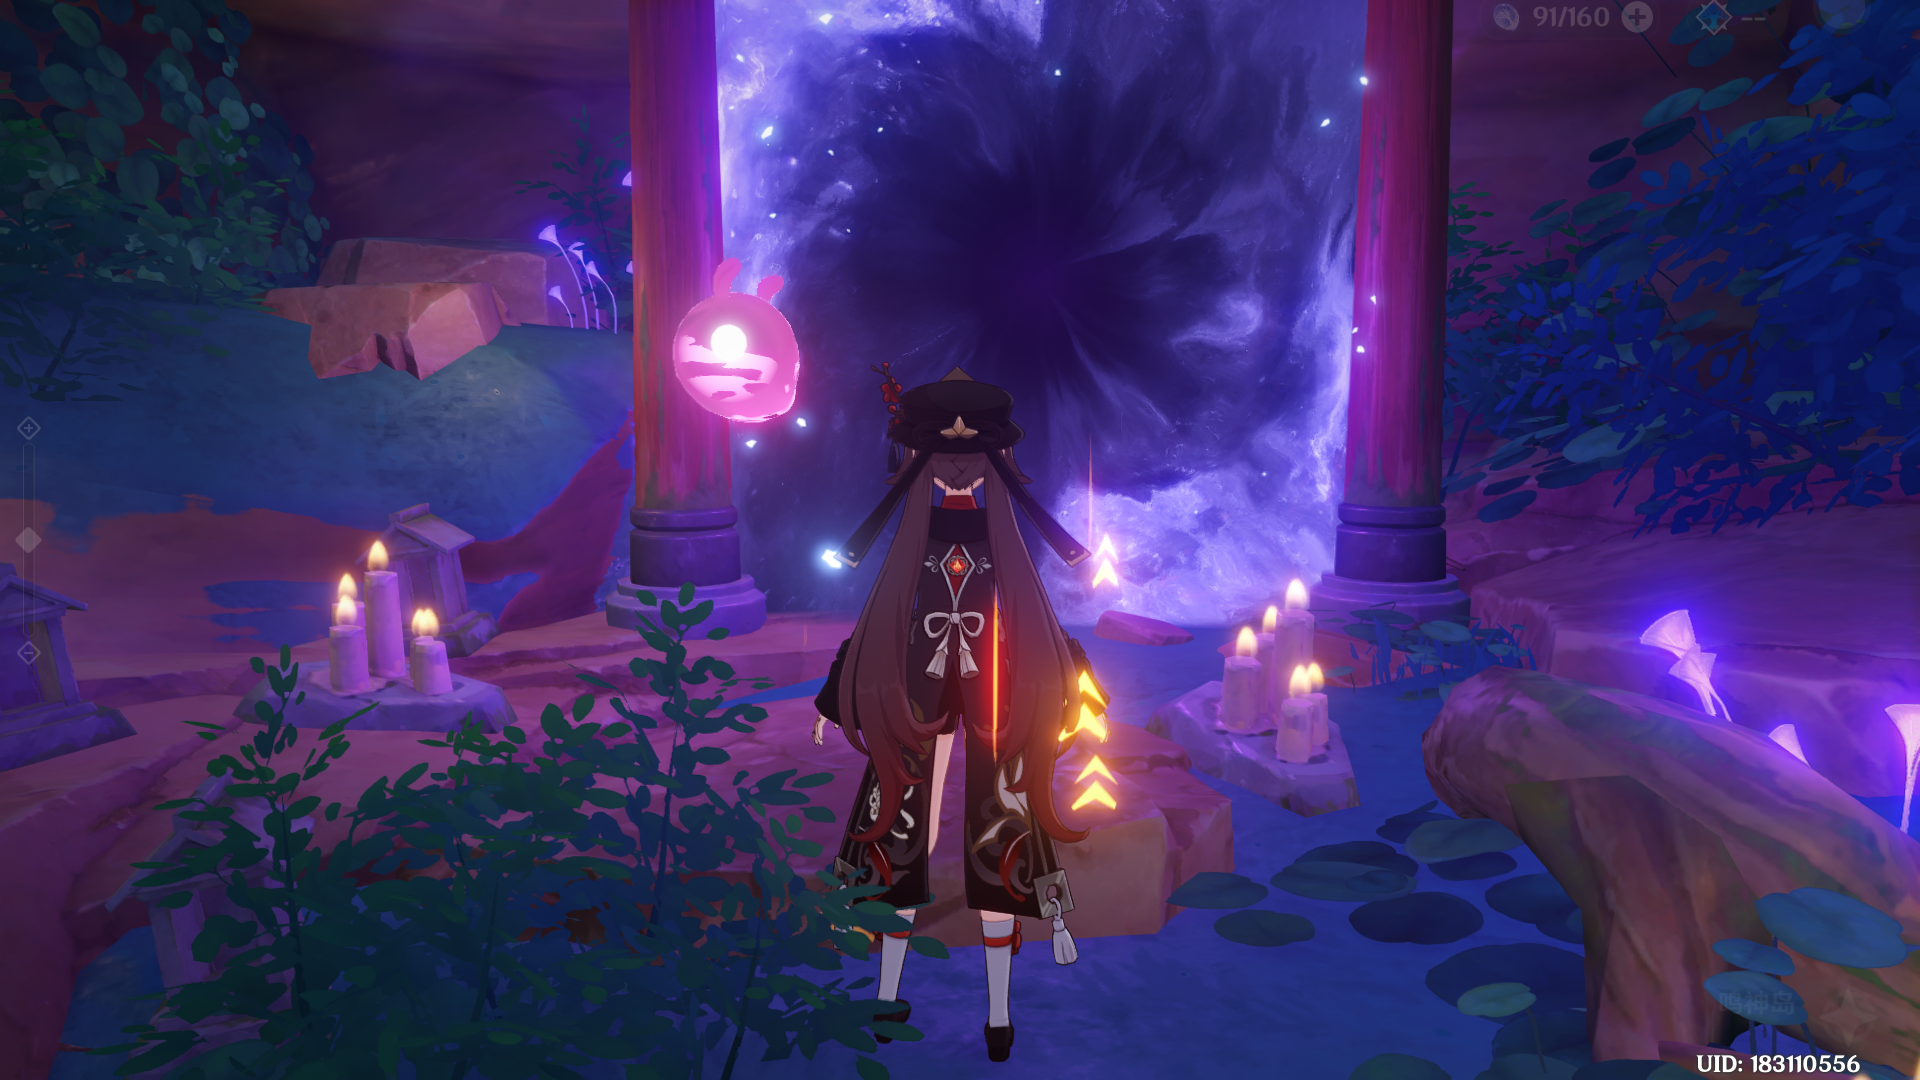character: (725, 353, 1153, 1064)
